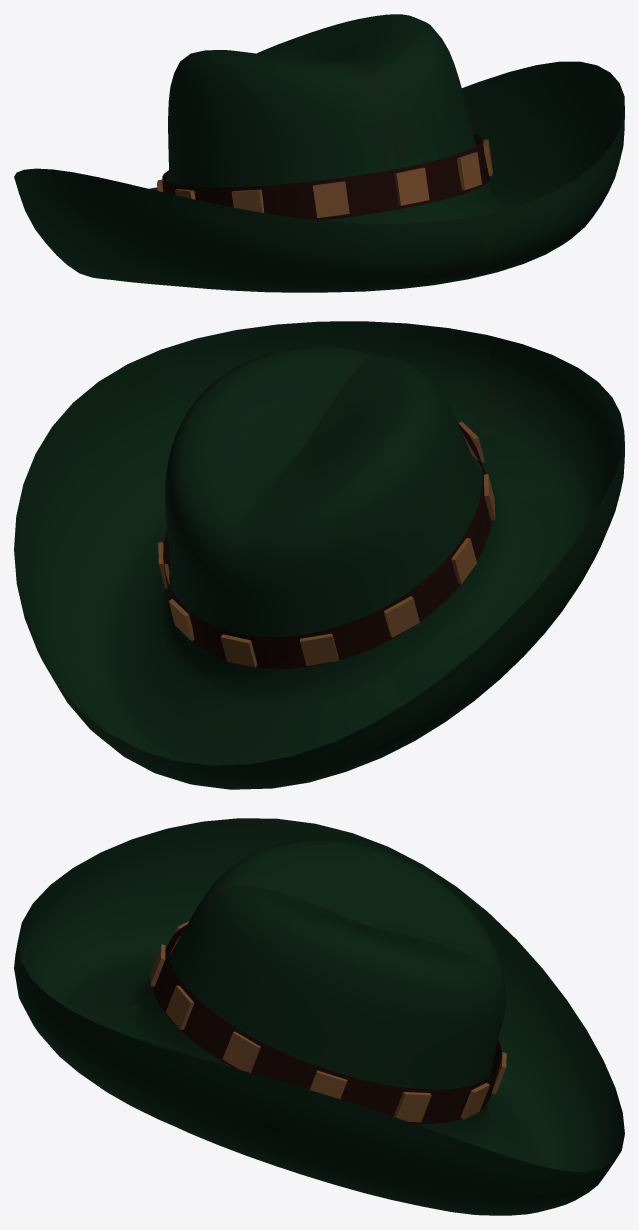
The model's file is hat.bronze-band.glb.
3 renders of one model, top to bottom at view 1: azimuth 30°, elevation 25°; view 2: azimuth 150°, elevation 25°; view 3: azimuth 270°, elevation 25°, orthographic. The views are drawn at different scales.
Visible parts, largest first — view 1: Head; view 2: Head; view 3: Head.
Part boxes in pixels (x1,y1,x2,y2): Head: (14, 14, 624, 292); Head: (14, 321, 624, 789); Head: (14, 818, 624, 1215).
Bounding box in the file's own units: 0.3867 × 0.2159 × 0.3984.
Materials: 1 (1 with a texture image).
